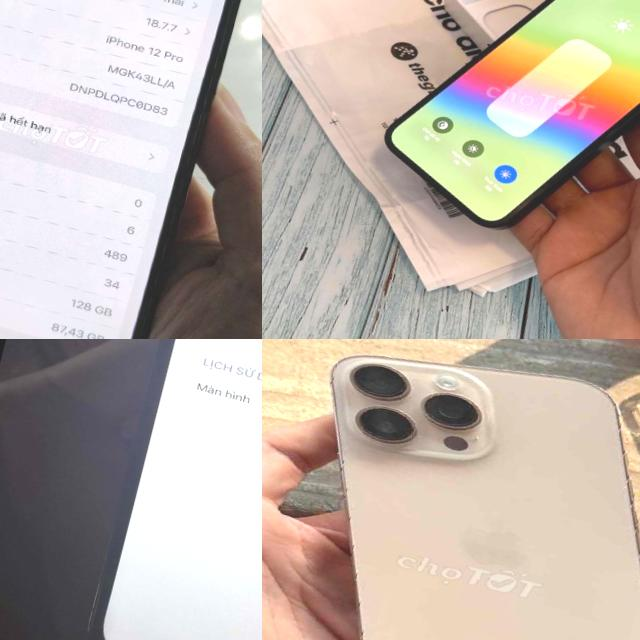gen_12_13: (0, 0, 262, 339), (366, 0, 640, 280), (59, 339, 262, 640)
gen_16: (262, 339, 640, 640)
